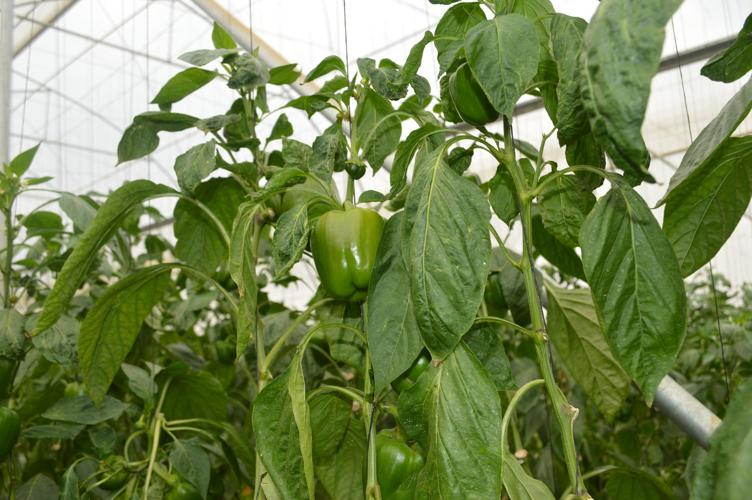BellPepper: (304, 207, 387, 300), (373, 422, 432, 500), (446, 59, 505, 130)
